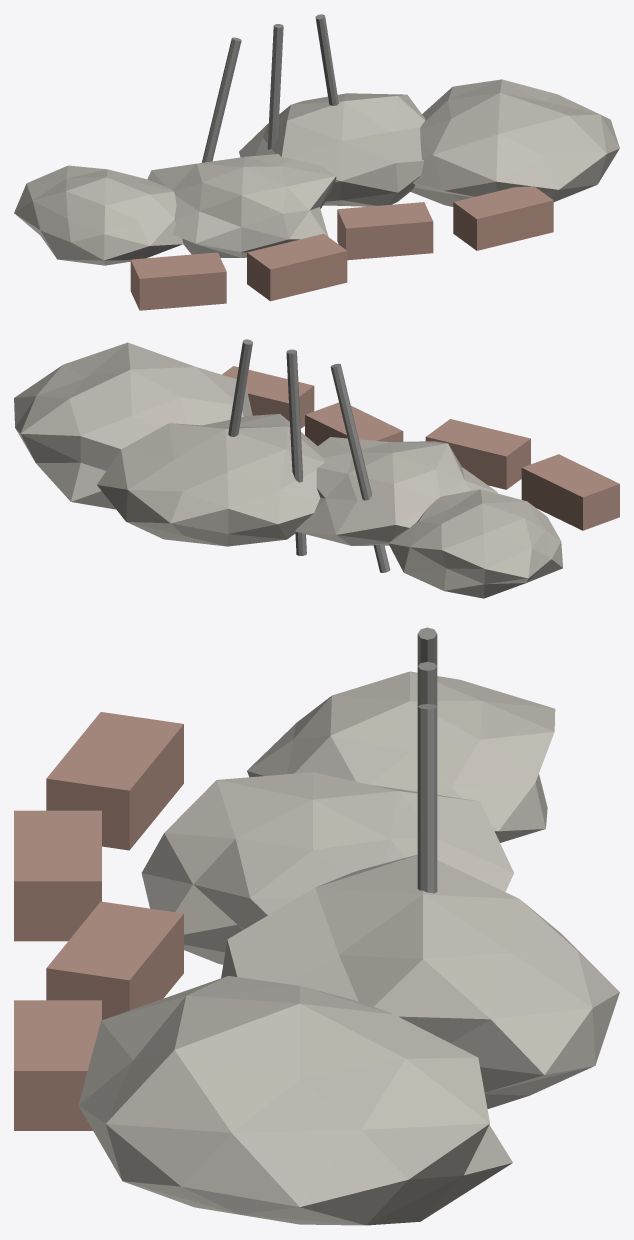
Rendered from Dustline_RubbleCluster_A_YUp.glb.
3 views of the same model, one above another, from view 1: azimuth 30°, elevation 25°; view 2: azimuth 150°, elevation 25°; view 3: azimuth 270°, elevation 25° (orthographic). The views are drawn at different scales.
Parts seen in each view (by area): view 1: fractured_concrete_3, fractured_concrete_1, fractured_concrete_2, fractured_concrete_0, broken_brick_1, broken_brick_3, broken_brick_0, broken_brick_2, twisted_rebar_0, twisted_rebar_1, twisted_rebar_2; view 2: fractured_concrete_2, fractured_concrete_3, fractured_concrete_0, fractured_concrete_1, broken_brick_0, broken_brick_1, broken_brick_3, broken_brick_2, twisted_rebar_0, twisted_rebar_1, twisted_rebar_2; view 3: fractured_concrete_3, fractured_concrete_2, fractured_concrete_1, fractured_concrete_0, broken_brick_0, broken_brick_2, broken_brick_1, broken_brick_3, twisted_rebar_2, twisted_rebar_1.
Part boxes in pixels (x1,y1,x2,y2): fractured_concrete_3: (410,79,619,206); fractured_concrete_1: (147,154,336,257); fractured_concrete_2: (239,93,425,206); fractured_concrete_0: (14,165,183,265); broken_brick_1: (247,233,347,301); broken_brick_3: (453,186,553,250); broken_brick_0: (130,252,226,310); broken_brick_2: (337,202,433,260); twisted_rebar_0: (202,37,241,162); twisted_rebar_1: (267,24,283,149); twisted_rebar_2: (315,14,338,105); fractured_concrete_2: (97,414,324,546); fractured_concrete_3: (14,342,252,509); fractured_concrete_0: (388,489,562,598); fractured_concrete_1: (295,437,497,545); broken_brick_0: (521,454,619,530); broken_brick_1: (425,419,530,489); broken_brick_3: (222,366,314,428); broken_brick_2: (305,402,403,445); twisted_rebar_0: (330,363,390,572); twisted_rebar_1: (286,349,306,555); twisted_rebar_2: (228,339,252,436); fractured_concrete_3: (78,976,512,1225); fractured_concrete_2: (221,854,619,1108); fractured_concrete_1: (141,772,513,964); fractured_concrete_0: (247,671,555,842); broken_brick_0: (46,712,183,850); broken_brick_2: (46,901,183,1019); broken_brick_1: (14,810,101,941); broken_brick_3: (14,1000,101,1130); twisted_rebar_2: (417,704,437,893); twisted_rebar_1: (417,662,437,706).
Bounding box in the file's own units: 2.68 × 0.9011 × 1.38.
